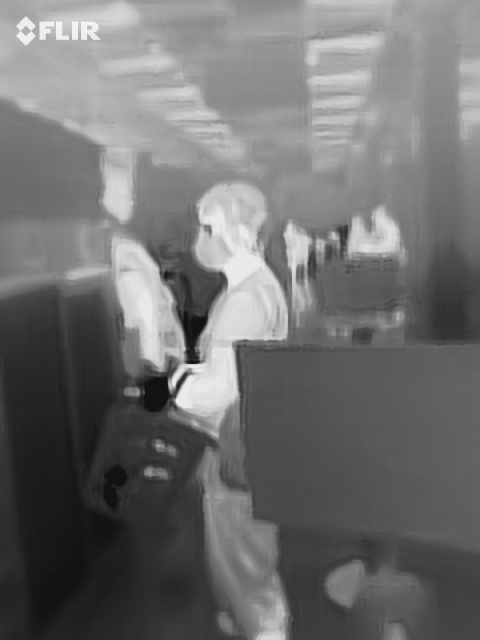head: (193, 182, 266, 272)
